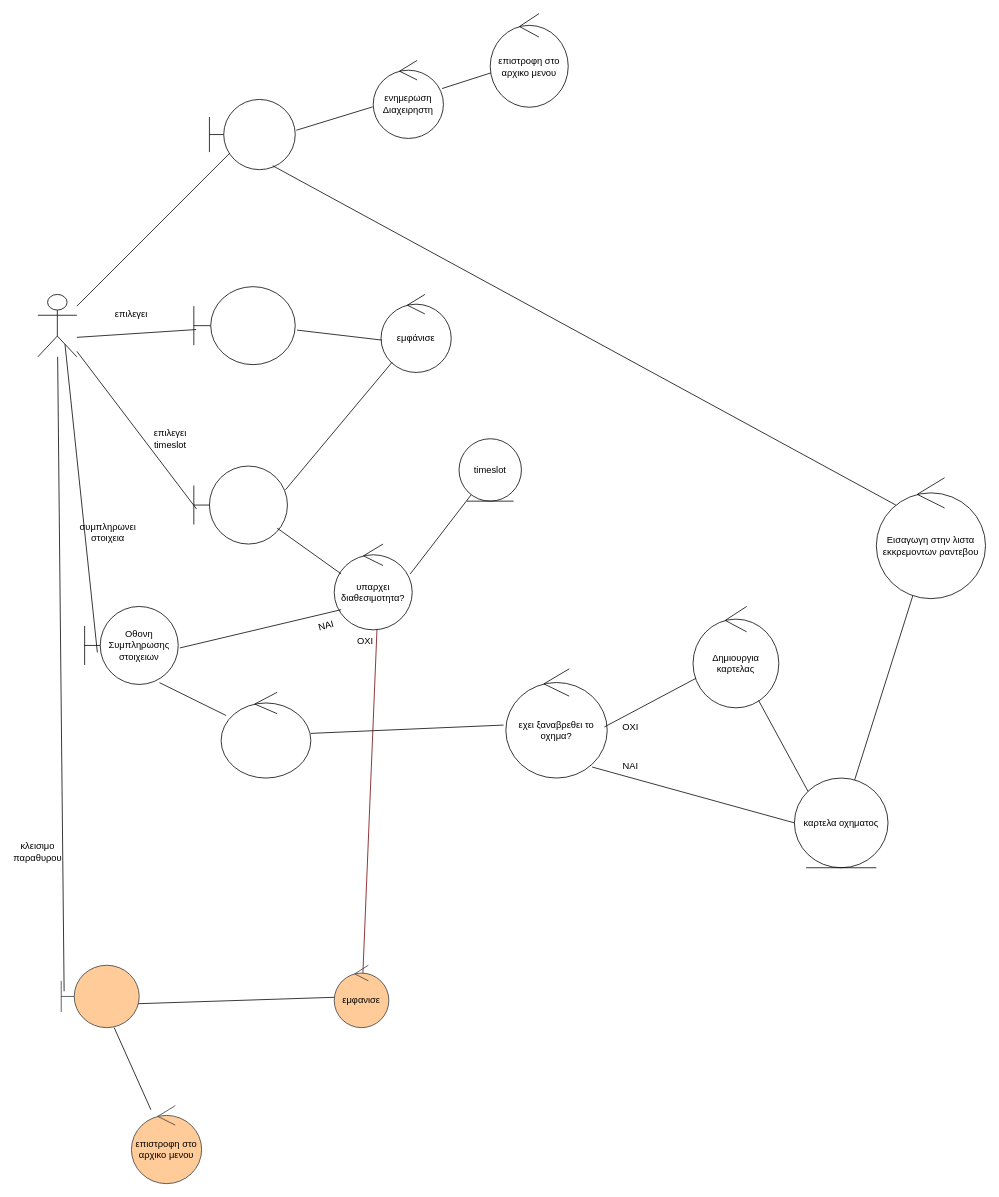
Some shapes in this 999 by 1197 pixel diagram are drawn without their labels. The box of each missing label's shape, as (x1, y1, x2, y2) in pixels:
Αποθηκευση Στοιχειων: (220, 691, 311, 778)
ημερολόγιο: (193, 465, 287, 544)
Λειτουργία Ποργραμματισμός Ραντεβού: (193, 286, 295, 365)
μηνυμα αποτυχιας: (60, 964, 139, 1028)
μηνυμα επιβεβαιωσης ραντεβου: (209, 99, 295, 170)
Πελάτης: (37, 294, 77, 357)
